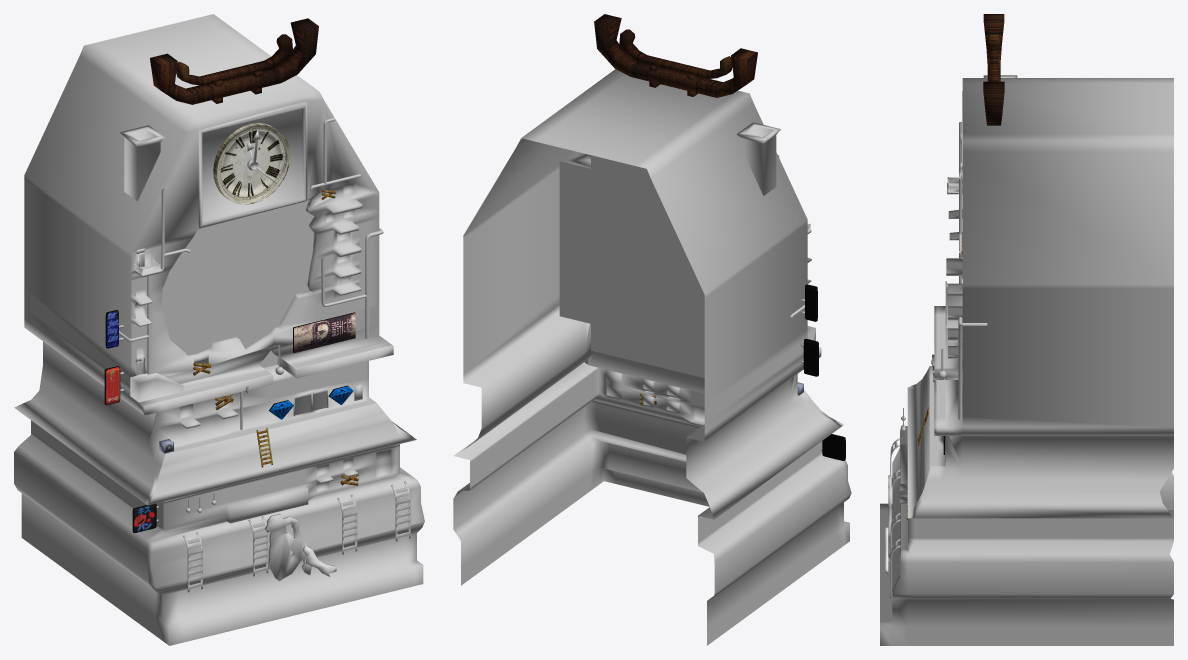
The model's file is DemoTower.fbx.
3 renders of one model, left to right at view 1: azimuth 30°, elevation 25°; view 2: azimuth 150°, elevation 25°; view 3: azimuth 270°, elevation 25°, orthographic. The views are drawn at different scales.
Parts seen in each view (by area): view 1: polySurface56, polySurface17, Mesh_polySurface31_000, polySurface55, polySurface10, Plane, polySurface51, polySurface32, polySurface33, polySurface31, polySurface30, polySurface39 (+2 smaller); view 2: polySurface56, polySurface17, Mesh_polySurface31_000, polySurface10, polySurface23; view 3: polySurface56, Mesh_polySurface31_000, polySurface46.
Part boxes in pixels (<box>): polySurface56: <box>14,14,424,645</box>; polySurface17: <box>123,162,313,367</box>; Mesh_polySurface31_000: <box>150,18,318,104</box>; polySurface55: <box>213,123,290,204</box>; polySurface10: <box>119,125,165,201</box>; Plane: <box>264,513,311,581</box>; polySurface51: <box>293,312,355,353</box>; polySurface32: <box>147,188,164,374</box>; polySurface33: <box>391,481,410,541</box>; polySurface31: <box>183,532,202,592</box>; polySurface30: <box>337,494,357,554</box>; polySurface39: <box>248,516,268,576</box>; polySurface56: <box>453,69,851,645</box>; polySurface17: <box>559,155,792,378</box>; Mesh_polySurface31_000: <box>594,14,757,97</box>; polySurface10: <box>736,122,780,195</box>; polySurface23: <box>803,338,818,376</box>; polySurface56: <box>880,78,1173,645</box>; Mesh_polySurface31_000: <box>983,14,1004,125</box>; polySurface46: <box>958,316,987,419</box>.
Bounding box in the file's own units: 8.99 × 16.49 × 8.29.
